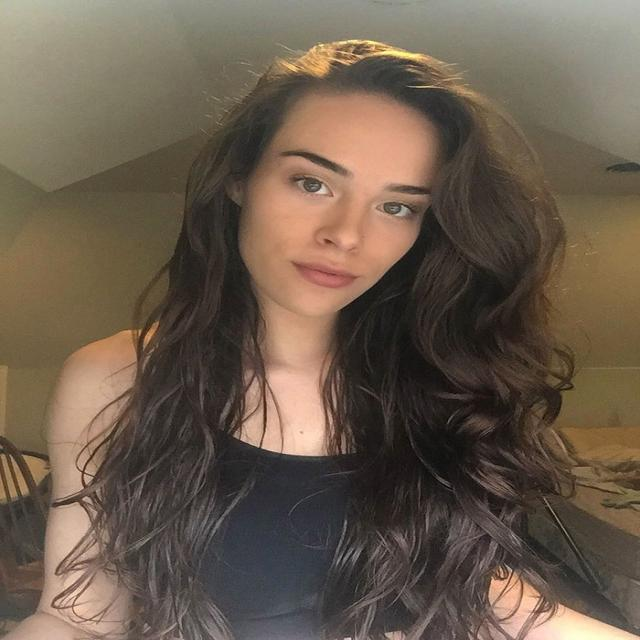mobile_phonerotation: (16, 38, 600, 637)
